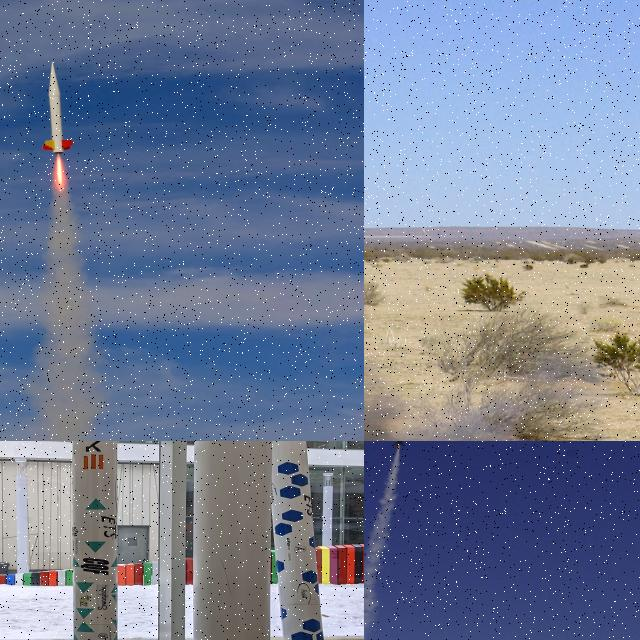Rocket: (271, 441, 324, 640), (72, 441, 118, 640), (42, 61, 75, 155), (390, 441, 410, 454)
